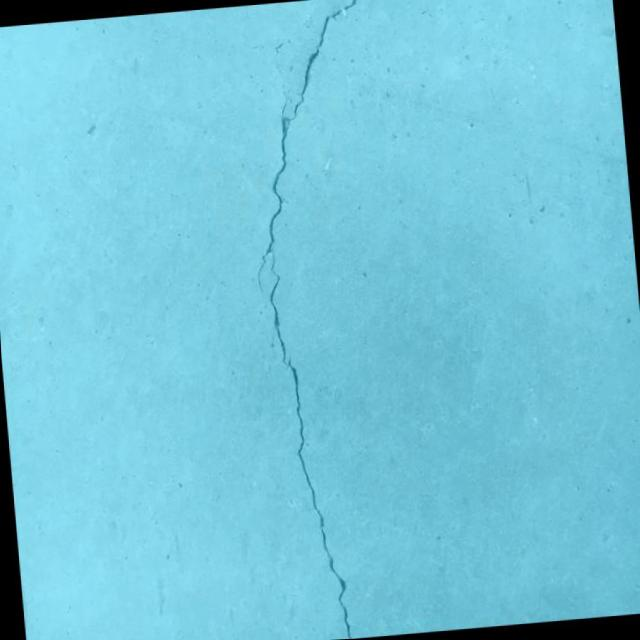crack: (227, 0, 414, 640)
